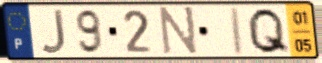2: (121, 8, 153, 54)
9: (73, 8, 105, 56)
I: (230, 5, 246, 57)
J: (39, 8, 68, 56)
N: (158, 5, 199, 58)
Q: (246, 6, 292, 56)
